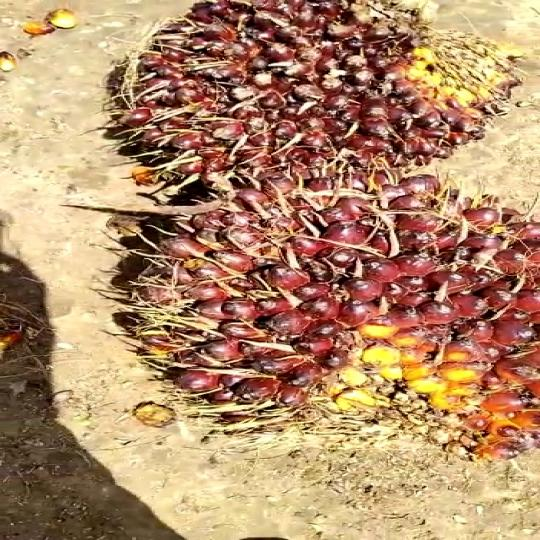kurang masak: (103, 172, 540, 476), (102, 6, 512, 190)
